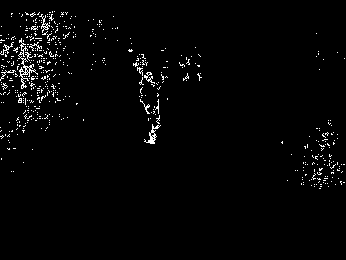person: (136, 70, 168, 147)
